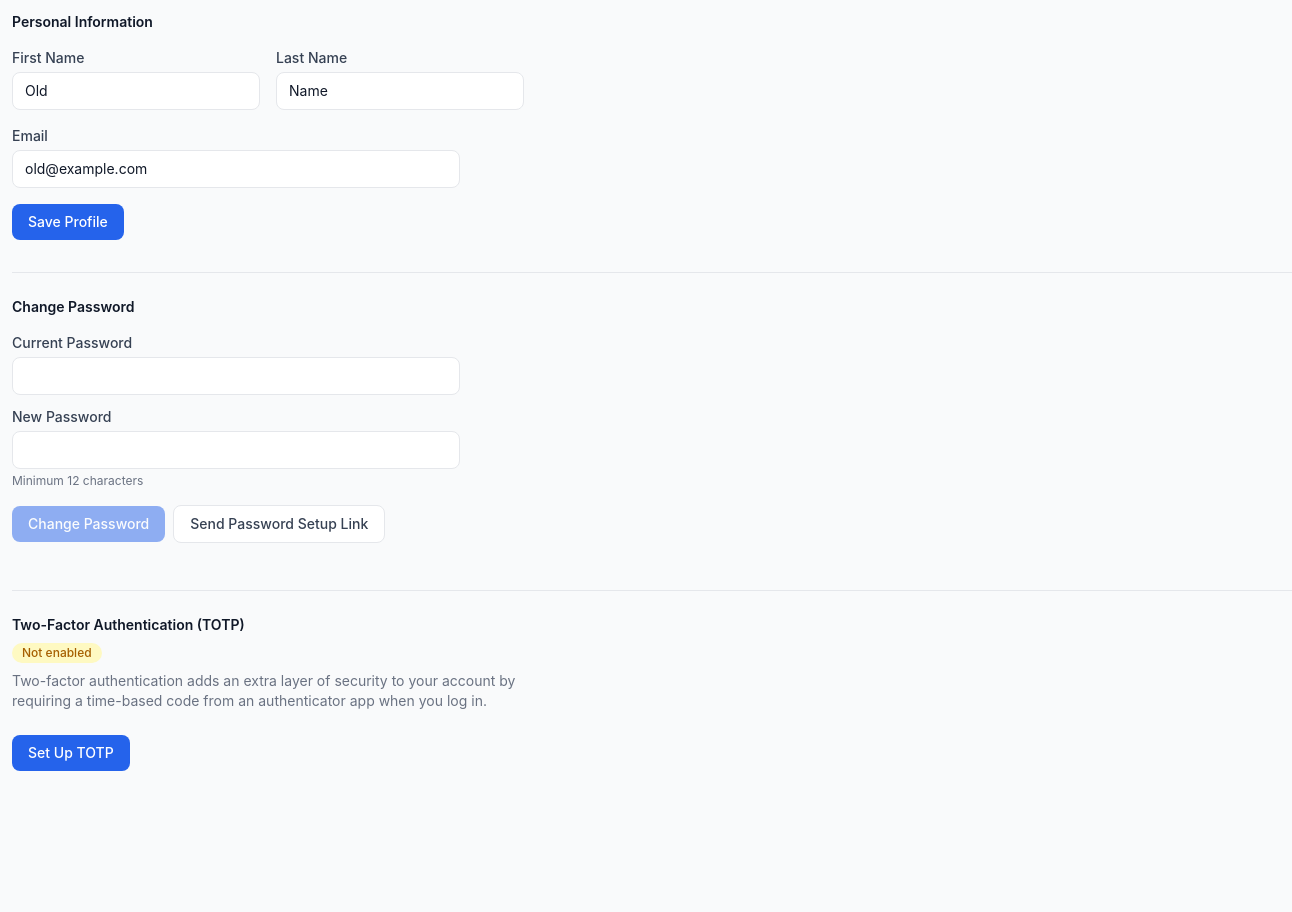
Test: ProfileTab › shows profile update failures
What coordinates should you click on to do the following:
click the button "Save Profile"
I would click on:
 (68, 222)
Its box is [12,204,124,240].
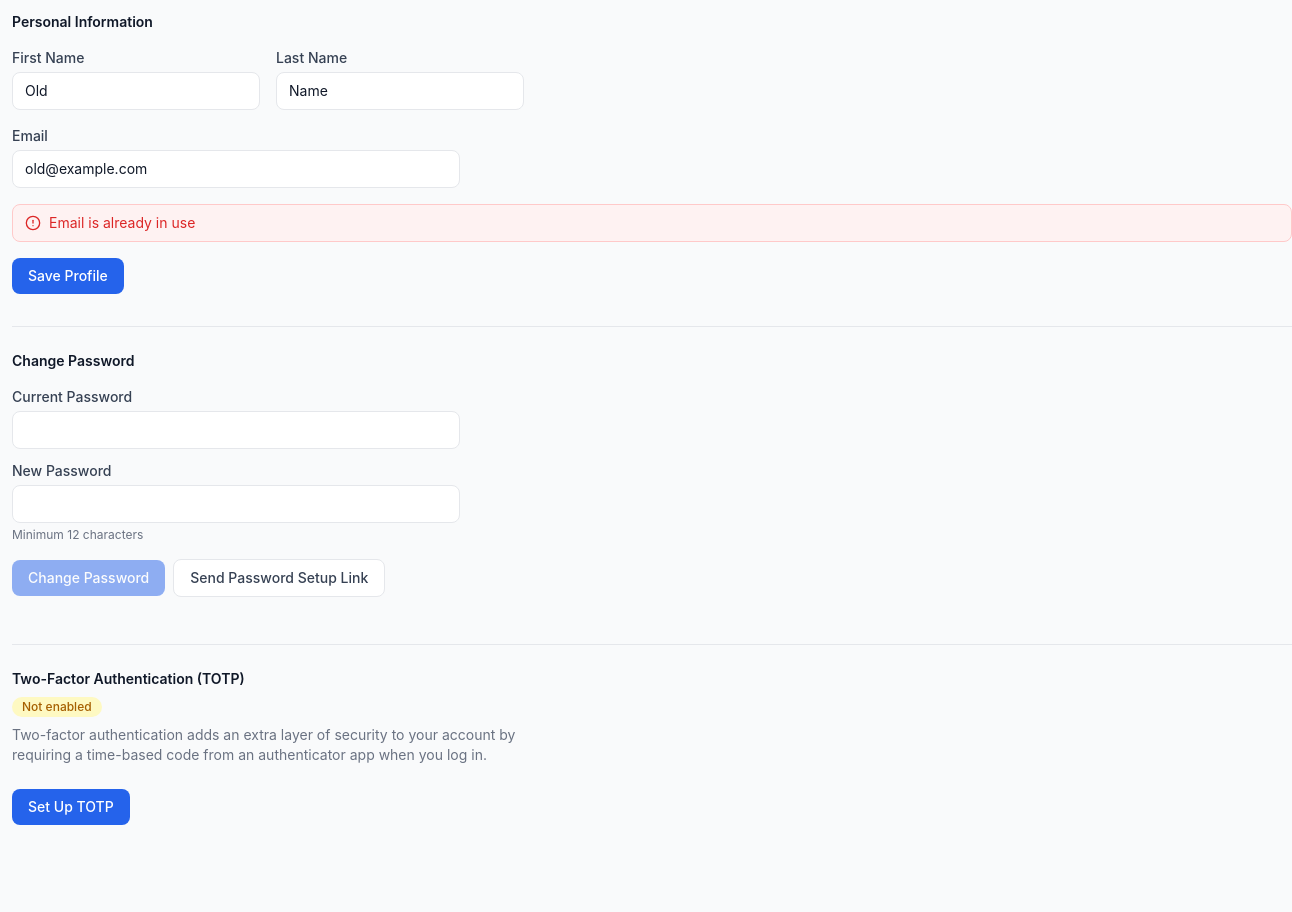
Expected: the text "Email is already in use" is shown, [12,204,1291,242]
